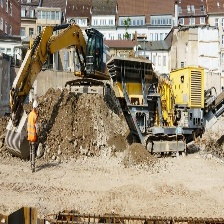helmet: (32, 99, 38, 113)
person: (26, 99, 40, 175)
vest: (28, 111, 37, 142)
